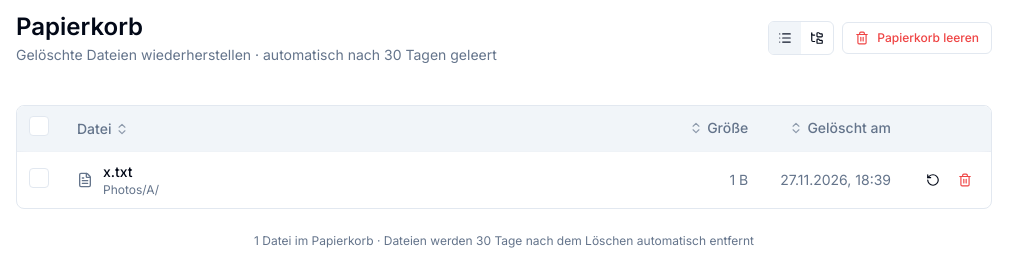
Test: TrashPage — Tree-View › startet im eingeklappten zustand — nur sync-roots sichtbar
Click the button named "Ordneransicht" at [817, 38], box top-left (801, 22), bottom-right (833, 54)
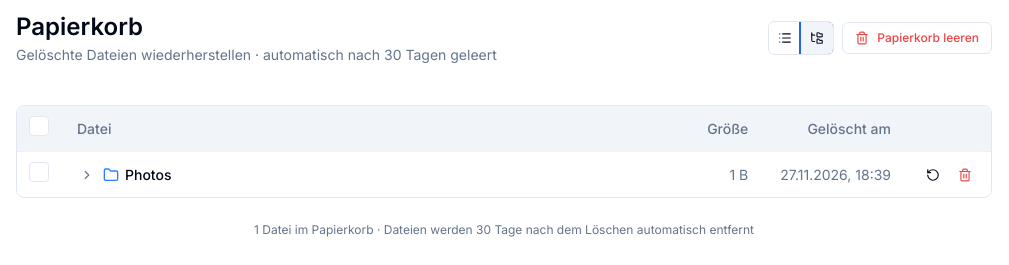
Result: the list item "Photos 1 B 27.11.2026, 18:39" is shown at top-left (17, 152), bottom-right (991, 197)
Result: the text "x.txt" is gone
